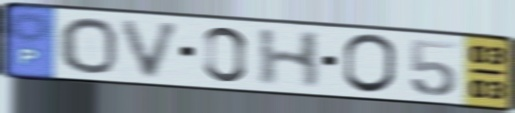0: (202, 25, 248, 84)
5: (408, 37, 458, 98)
H: (255, 27, 325, 90)
O: (56, 15, 121, 76), (340, 32, 399, 96)
V: (117, 17, 187, 81)
